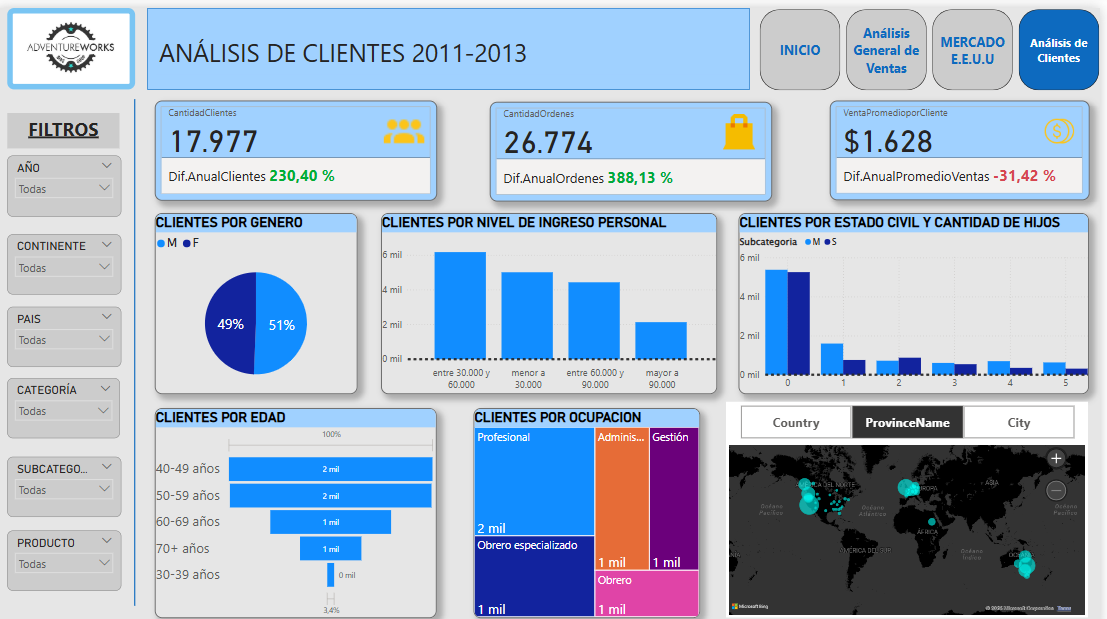

This screenshot's page, from the dashboard's own definition file:
{"tool":"powerbi","page":{"name":"Análisis de Clientes","canvas":[1920,1080],"ordinal":3},"visuals":[{"type":"funnel","title":"CLIENTES POR EDAD","fields":{"Category":["DimCustomer.DecadaEdad"],"Y":["Medidas.CantidadClientesLY"]},"box":[276.9,696.7,490.4,365.6],"z":0},{"type":"shape","box":[263.5,0,1048.1,142.3],"z":1000},{"type":"textbox","box":[277.4,43.4,1013.2,71.7],"z":2000},{"type":"shape","box":[232.7,159.6,17.3,880.8],"z":3000},{"type":"slicer","fields":{"Values":["Calendario.YEAR"]},"box":[19.6,256.8,198.1,106.6],"z":4000},{"type":"slicer","fields":{"Values":["DimProduct.CategoryName"]},"box":[19.6,644.2,195.9,104.5],"z":5000},{"type":"slicer","fields":{"Values":["FactInternetSales.PAIS"]},"box":[19.6,520.2,198.1,104.5],"z":6000},{"type":"slicer","fields":{"Values":["DimProduct.SubcategoryName"]},"box":[19.6,781.3,198.1,104.5],"z":7000},{"type":"slicer","fields":{"Values":["DimProduct.EnglishProductName"]},"box":[19.6,909.7,198.1,104.5],"z":8000},{"type":"textbox","box":[19.9,182.8,195.4,61.5],"z":9000},{"type":"pageNavigator","box":[1328.3,1.8,591.8,141.2],"z":10000},{"type":"slicer","fields":{"Values":["FactInternetSales.CONTINENTE"]},"box":[19.6,393.9,198.1,104.5],"z":11000},{"type":"image","box":[18.9,0,222.6,141.5],"z":12000},{"type":"cardVisual","fields":{"Data":["Medidas.CantidadClientes"]},"box":[276.2,161.1,491,174.5],"z":13000},{"type":"treemap","title":" CLIENTES POR OCUPACION","fields":{"Values":["Medidas.CantidadClientesLY"],"Group":["DimCustomer.SpanishOccupation"]},"box":[830.6,696.7,394.5,365.6],"z":14000},{"type":"pieChart","title":" CLIENTES POR GENERO","fields":{"Y":["Medidas.CantidadClientes"],"Category":["DimCustomer.Gender"]},"box":[276.9,356.5,352.9,314.9],"z":15000},{"type":"columnChart","title":"CLIENTES POR NIVEL DE INGRESO PERSONAL","fields":{"Y":["Medidas.CantidadClientes"],"Category":["DimCustomer.IngresoAnual"]},"box":[669.6,356.5,584.5,314.9],"z":16000},{"type":"cardVisual","fields":{"Data":["Medidas.CantidadOrdenes"]},"box":[859.1,163.9,491.6,173.2],"z":17000},{"type":"cardVisual","fields":{"Data":["Medidas.VentaPromedioporCliente"]},"box":[1449,161.5,451.8,173.2],"z":18000},{"type":"clusteredColumnChart","title":"CLIENTES POR ESTADO CIVIL Y CANTIDAD DE HIJOS","fields":{"Category":["DimCustomer.NumberChildrenAtHome"],"Y":["Medidas.CantidadClientes"],"Series":["DimCustomer.MaritalStatus"]},"box":[1290.3,356.5,609.9,314.9],"z":19000},{"type":"map","title":"DIFERENCIA PORCENTUAL DE  VENTAS POR AÑO Y PAIS","fields":{"Category":["DimCustomer.ProvinceName"],"Size":["Medidas.VentasTotales"]},"box":[1268.6,754.6,629.8,305.8],"z":20000},{"type":"slicer","fields":{"Values":["Parámetro4.Parámetro4"]},"box":[1268.6,684.1,629.8,70.6],"z":21001}]}

Visuals, with their boxes in screenshot pixels (x1, y1, x2, y2), scaled from the page's 1920x1080 canvas onto the 1107x619 screenshot:
"CLIENTES POR EDAD" funnel: {"x1": 160, "y1": 399, "x2": 442, "y2": 609}
shape: {"x1": 152, "y1": 0, "x2": 756, "y2": 82}
textbox: {"x1": 160, "y1": 25, "x2": 744, "y2": 66}
shape: {"x1": 134, "y1": 91, "x2": 144, "y2": 596}
slicer - Calendario.YEAR: {"x1": 11, "y1": 147, "x2": 126, "y2": 208}
slicer - DimProduct.CategoryName: {"x1": 11, "y1": 369, "x2": 124, "y2": 429}
slicer - FactInternetSales.PAIS: {"x1": 11, "y1": 298, "x2": 126, "y2": 358}
slicer - DimProduct.SubcategoryName: {"x1": 11, "y1": 448, "x2": 126, "y2": 508}
slicer - DimProduct.EnglishProductName: {"x1": 11, "y1": 521, "x2": 126, "y2": 581}
textbox: {"x1": 11, "y1": 105, "x2": 124, "y2": 140}
pageNavigator: {"x1": 766, "y1": 1, "x2": 1106, "y2": 82}
slicer - FactInternetSales.CONTINENTE: {"x1": 11, "y1": 226, "x2": 126, "y2": 286}
image: {"x1": 11, "y1": 0, "x2": 139, "y2": 81}
cardVisual - Medidas.CantidadClientes: {"x1": 159, "y1": 92, "x2": 442, "y2": 192}
" CLIENTES POR OCUPACION" treemap: {"x1": 479, "y1": 399, "x2": 706, "y2": 609}
" CLIENTES POR GENERO" pieChart: {"x1": 160, "y1": 204, "x2": 363, "y2": 385}
"CLIENTES POR NIVEL DE INGRESO PERSONAL" columnChart: {"x1": 386, "y1": 204, "x2": 723, "y2": 385}
cardVisual - Medidas.CantidadOrdenes: {"x1": 495, "y1": 94, "x2": 779, "y2": 193}
cardVisual - Medidas.VentaPromedioporCliente: {"x1": 835, "y1": 93, "x2": 1096, "y2": 192}
"CLIENTES POR ESTADO CIVIL Y CANTIDAD DE HIJOS" clusteredColumnChart: {"x1": 744, "y1": 204, "x2": 1096, "y2": 385}
"DIFERENCIA PORCENTUAL DE  VENTAS POR AÑO Y PAIS" map: {"x1": 731, "y1": 432, "x2": 1095, "y2": 608}
slicer - Parámetro4.Parámetro4: {"x1": 731, "y1": 392, "x2": 1095, "y2": 433}
